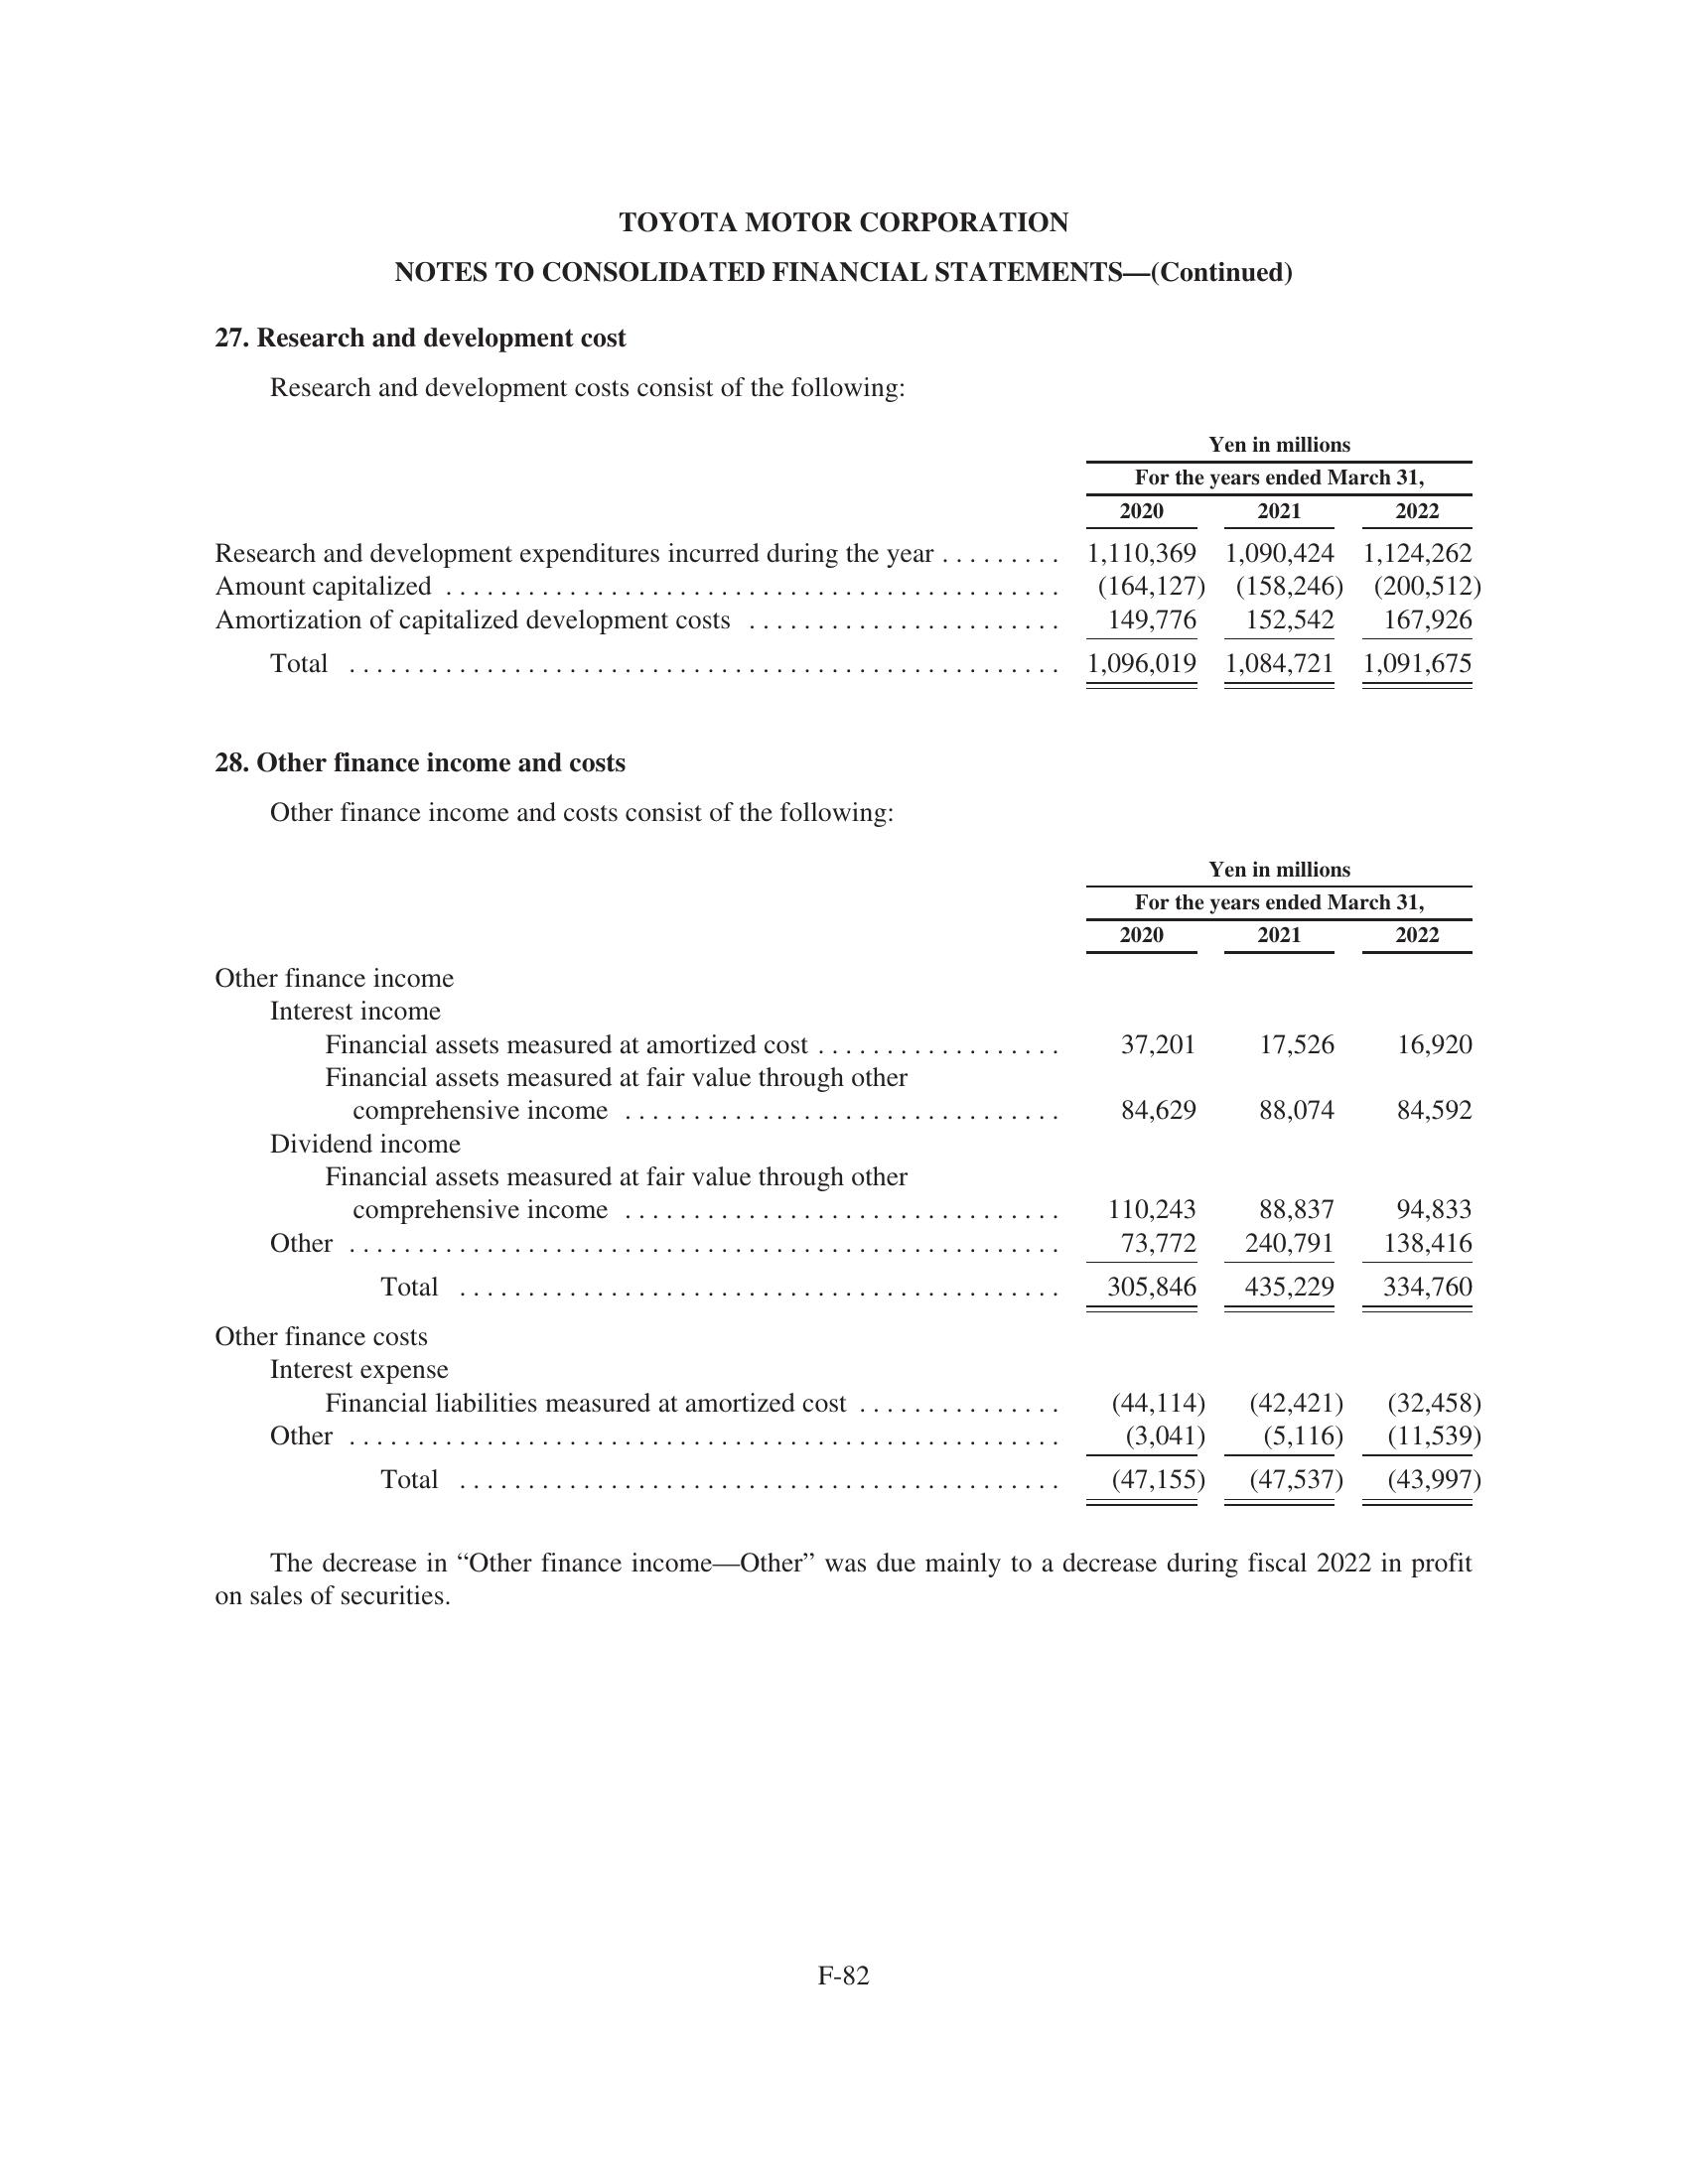Footer: (0, 1962, 1688, 2184)
Header: (0, 0, 1688, 179)
Table: (193, 851, 1509, 1516), (133, 404, 1504, 707)
